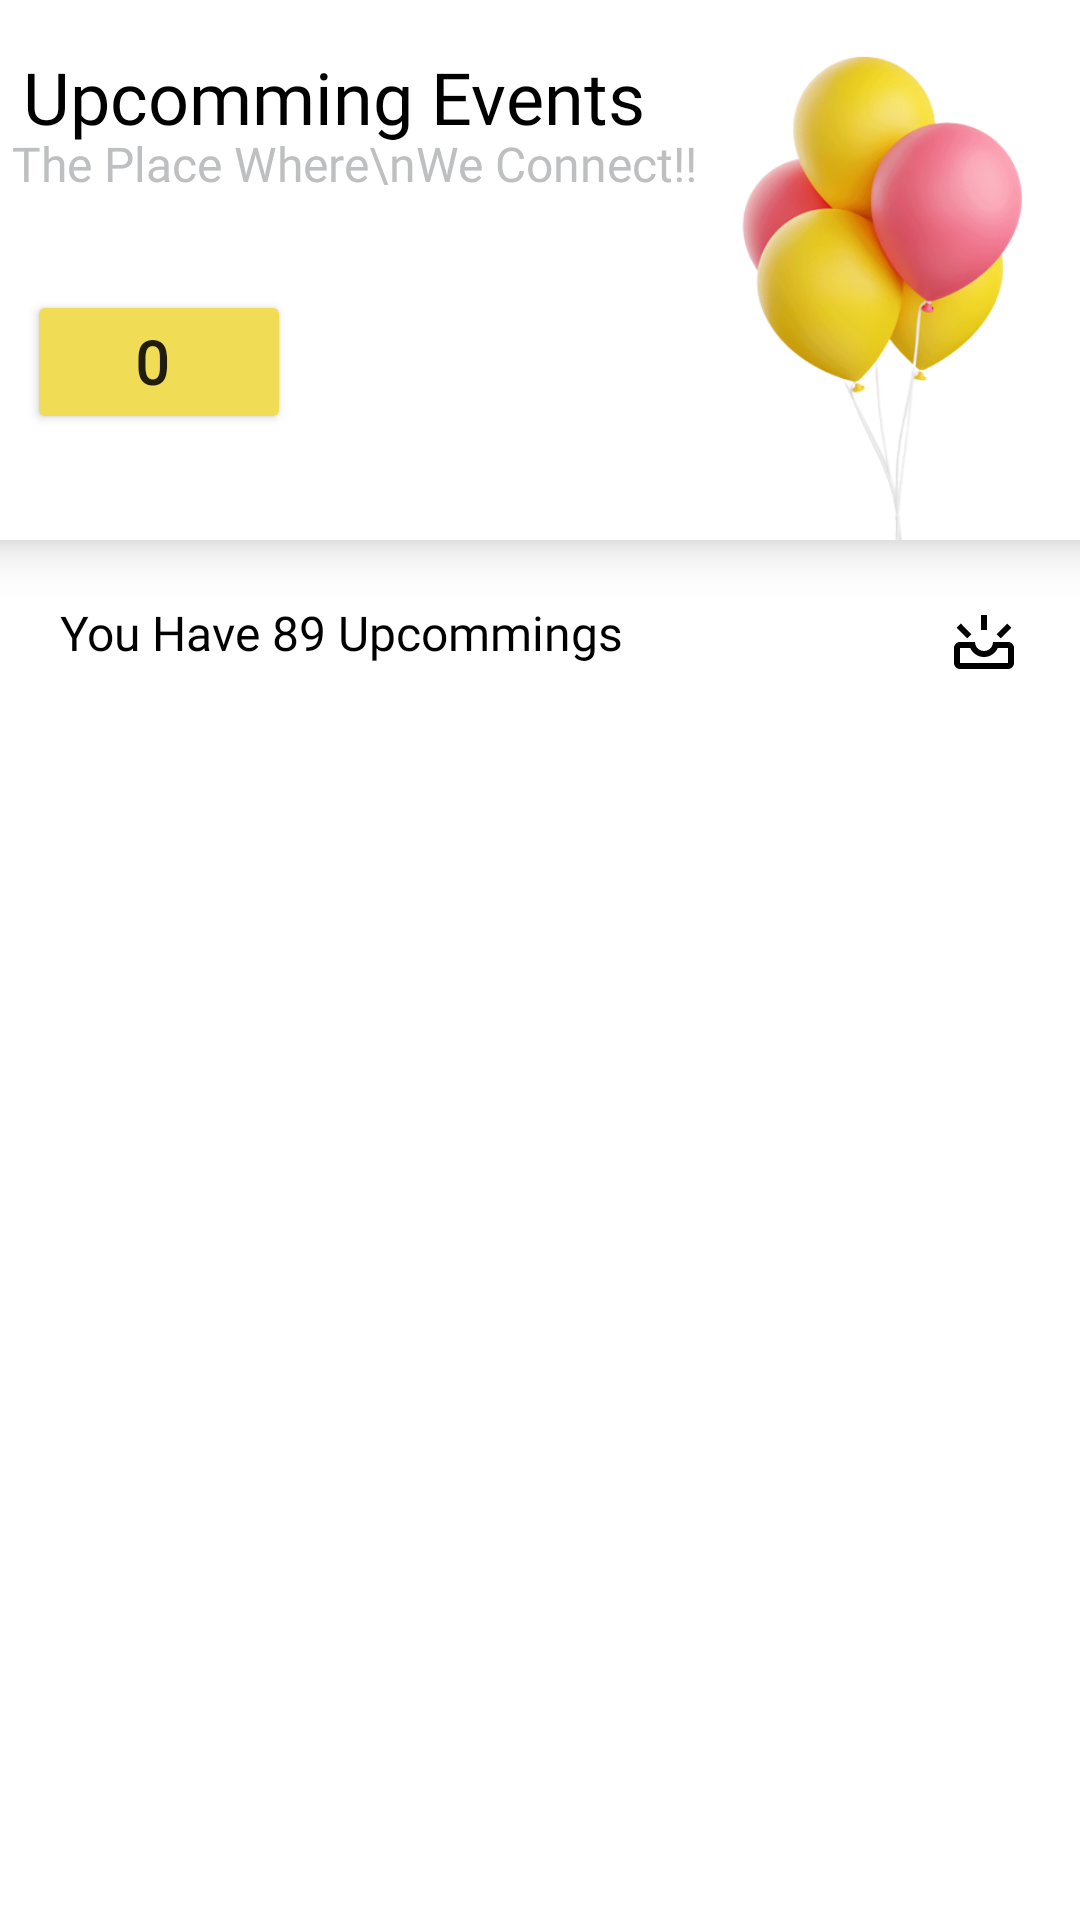

Named icons in this screenshot (1080px×1920px) and their bounding boxes, (x1, y1, x2, y2):
upcoming: (954, 615, 1014, 669)
